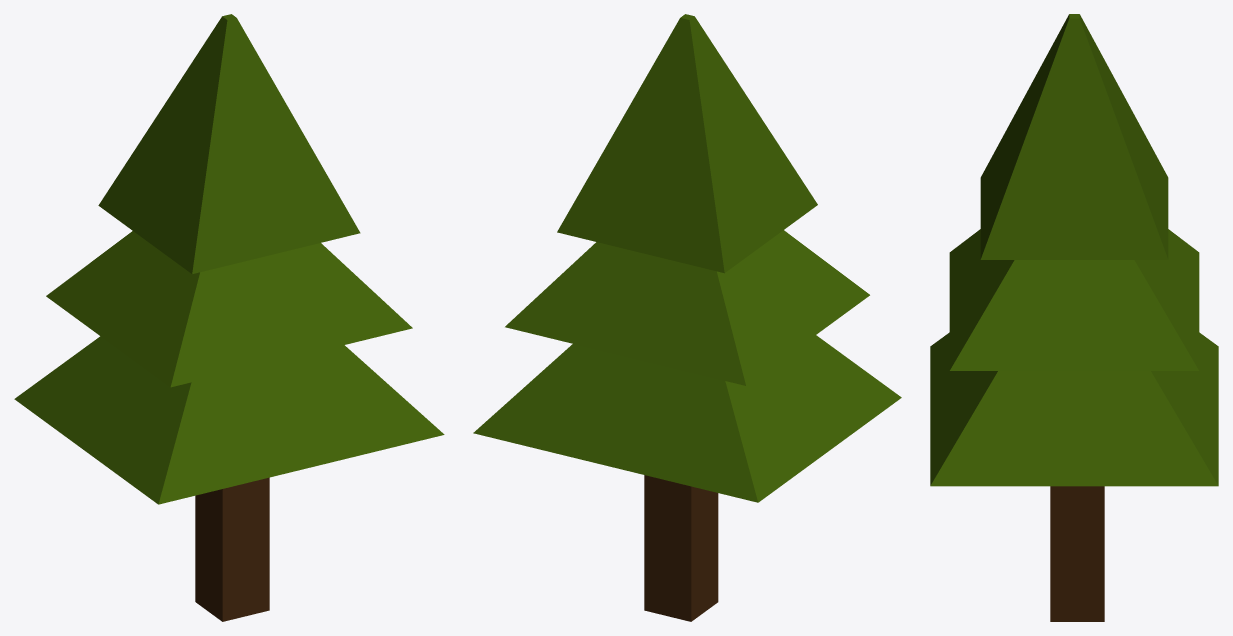
Rendered from tree10.FBX.
The picture shows the model from 3 angles, left to right: view 1: azimuth 30°, elevation 25°; view 2: azimuth 150°, elevation 25°; view 3: azimuth 270°, elevation 25°; orthographic projection.
Visible parts, largest first — view 1: tree10; view 2: tree10; view 3: tree10.
Boxes of the visible parts, x1,y1,x2,y2 form: tree10: (14, 14, 444, 621); tree10: (473, 14, 901, 621); tree10: (930, 14, 1218, 621).
Size of the model in its own units: 6.09 by 12.02 by 5.31.
